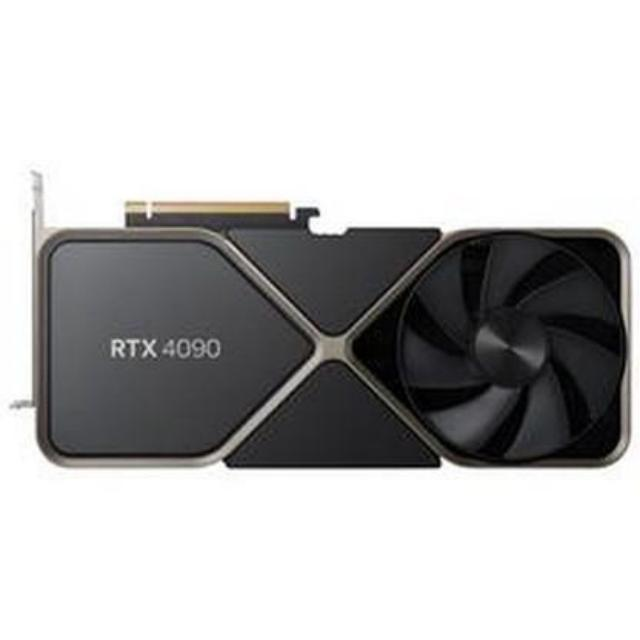GPU: (23, 196, 637, 474)
